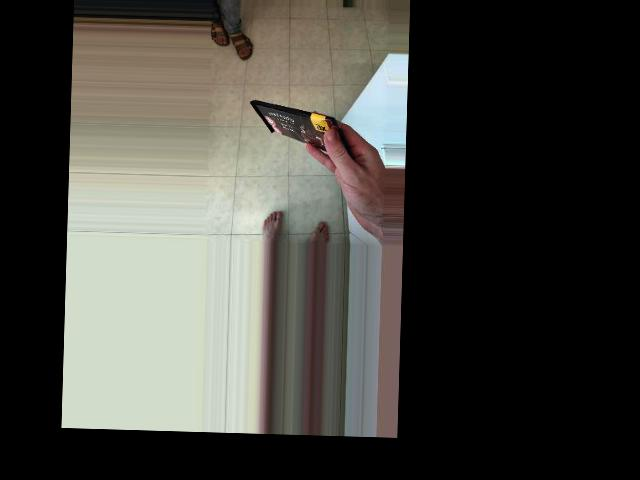chocolate: (232, 41, 295, 153)
